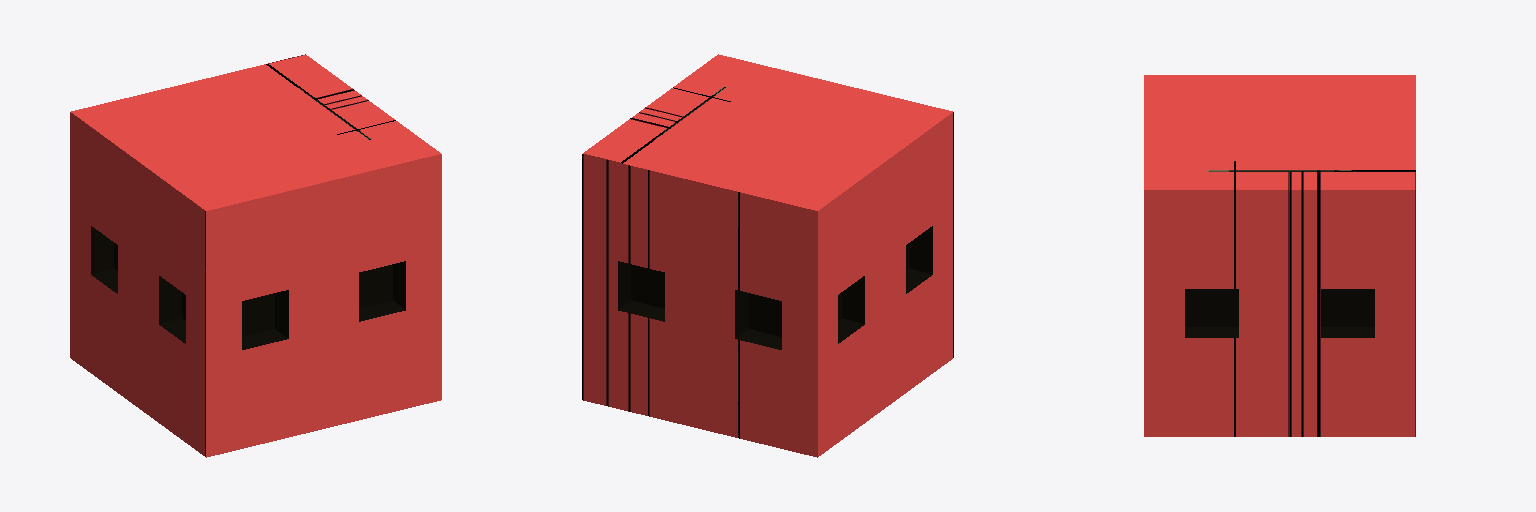
The picture shows the model from 3 angles: view 1: azimuth 30°, elevation 25°; view 2: azimuth 150°, elevation 25°; view 3: azimuth 270°, elevation 25°; orthographic projection.
Visible parts, largest first — view 1: Cube.001; view 2: Cube.001; view 3: Cube.001.
Boxes of the visible parts, <box> form: Cube.001: <box>70,54,441,457</box>; Cube.001: <box>582,54,953,457</box>; Cube.001: <box>1144,75,1415,436</box>.
Bounding box in the file's own units: 2 × 2 × 2.
Materials: 1 (1 with a texture image).